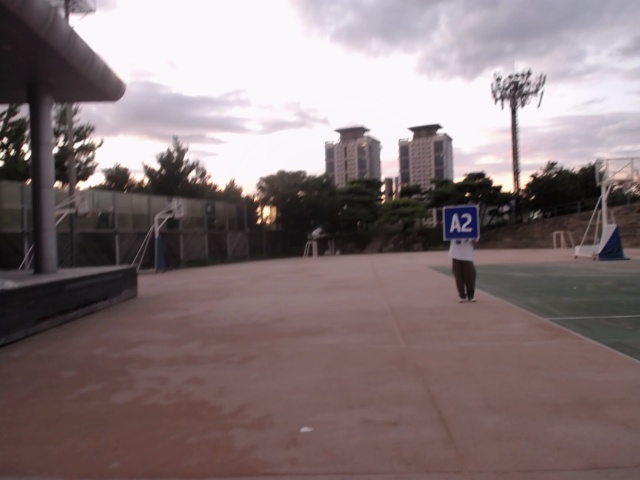delivery_a2: (443, 206, 479, 240)
